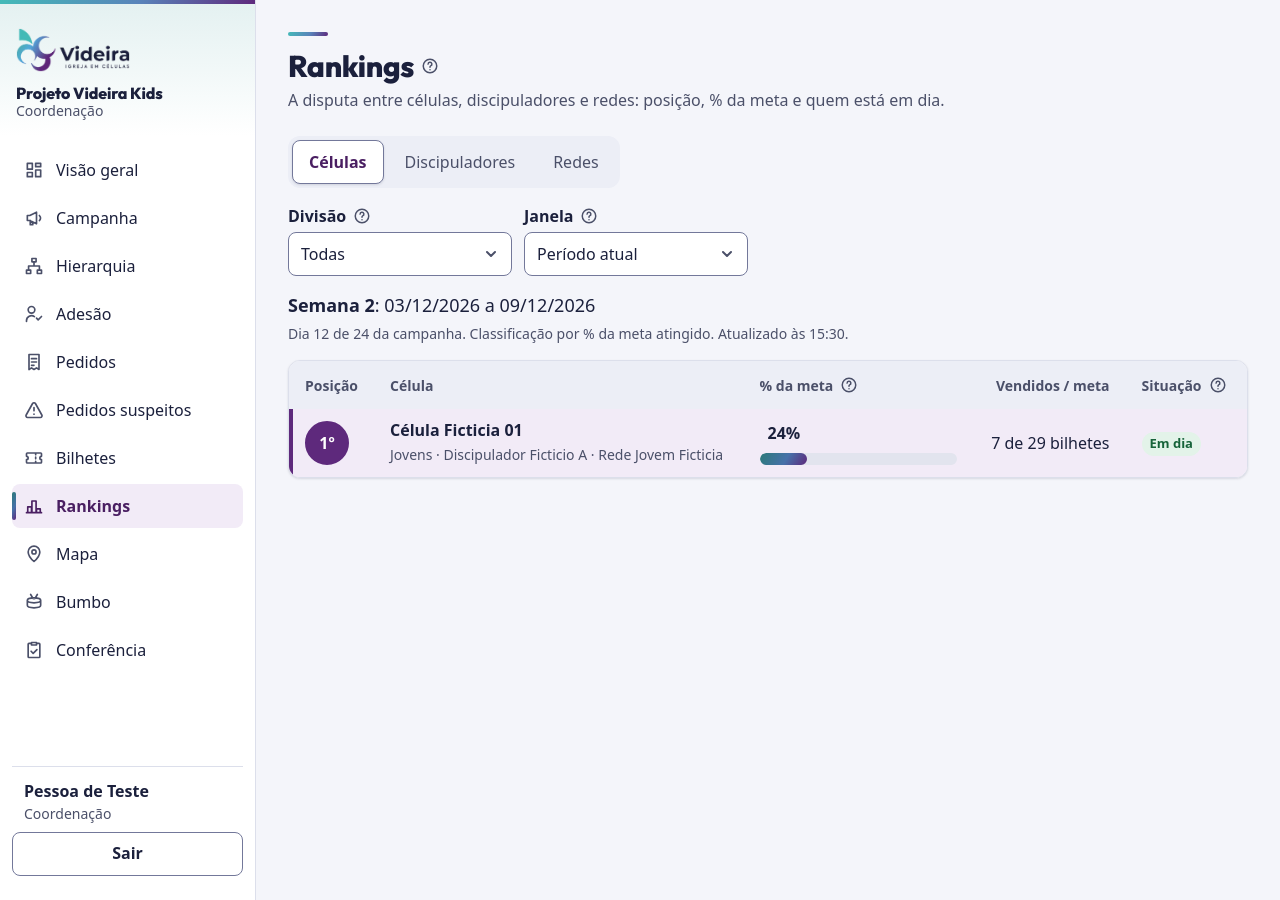
Test: CA1: ranking da coordenação (/coordenacao/rankings) › as abas de nível mudam a URL e a consulta; a coluna do nome e o vínculo acompanham o nível
Click the tab "Discipuladores".
click(460, 162)  # box [388,140,532,184]
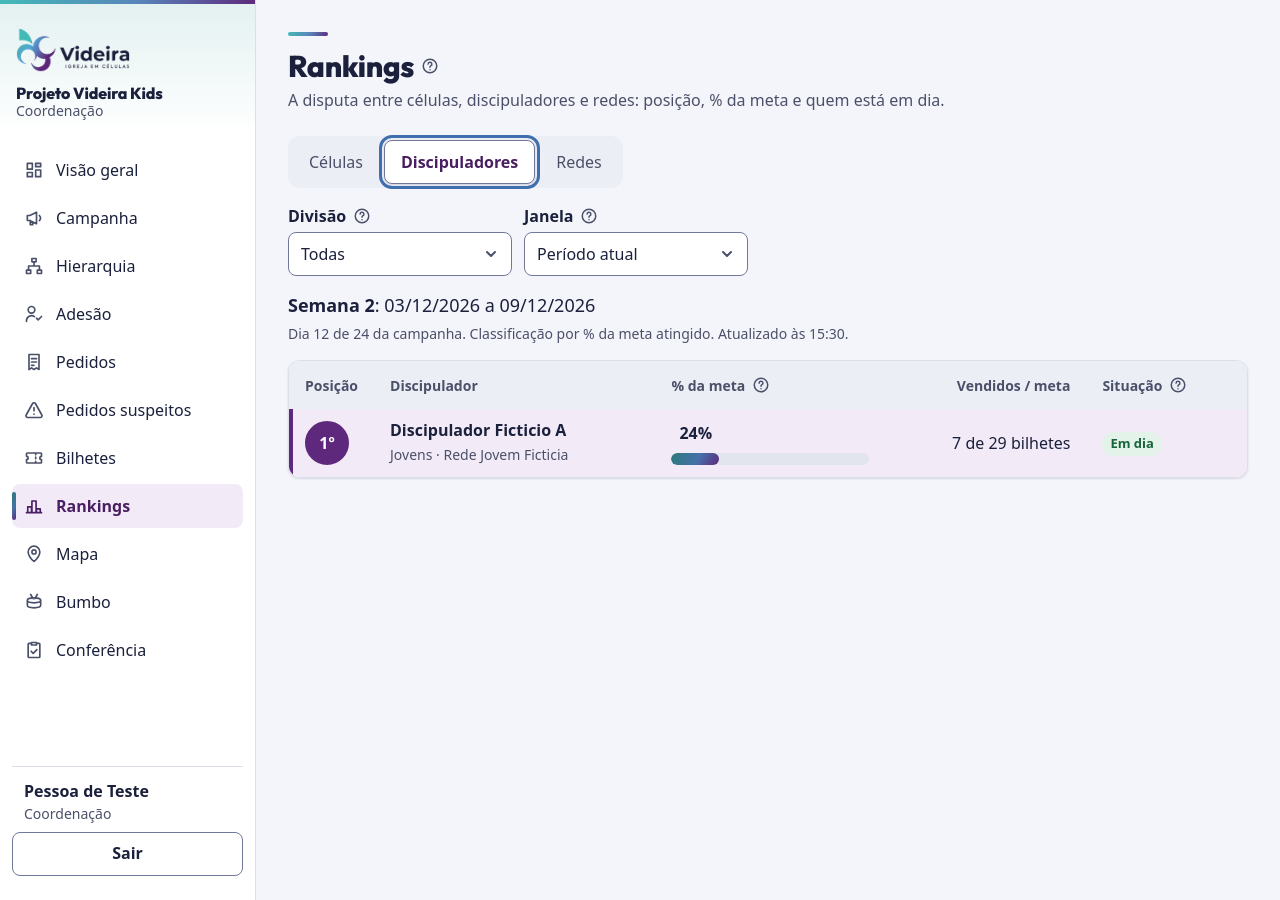
expect the column heading "Discipulador" is shown: met, box [374,361,655,409]
Pelo teclado (seta para a direita), como nas outras abas do site.
Press ArrowRight in the tab "Discipuladores", box [384,140,535,184]
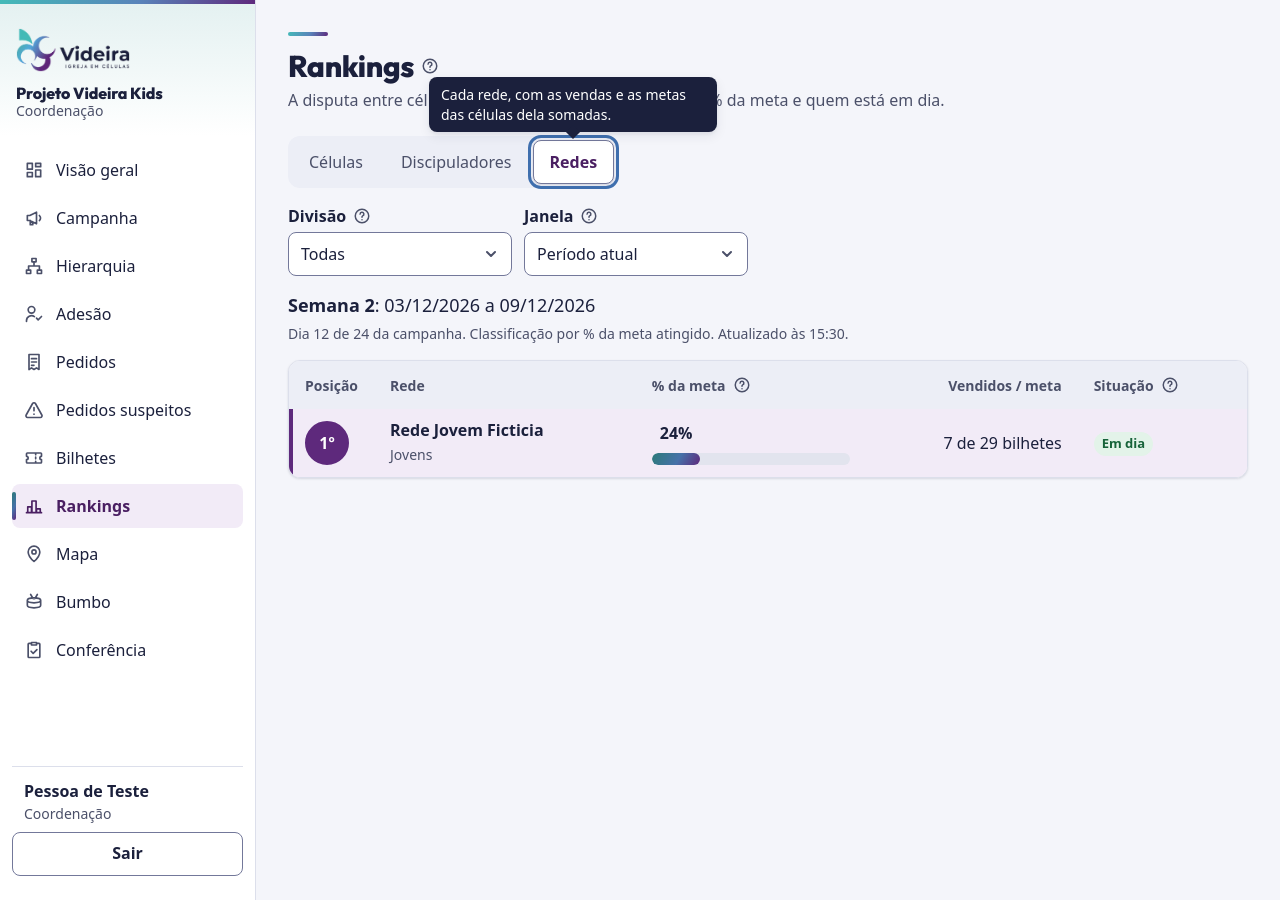
expect the column heading "Rede" is shown: met, box [374,361,636,409]
